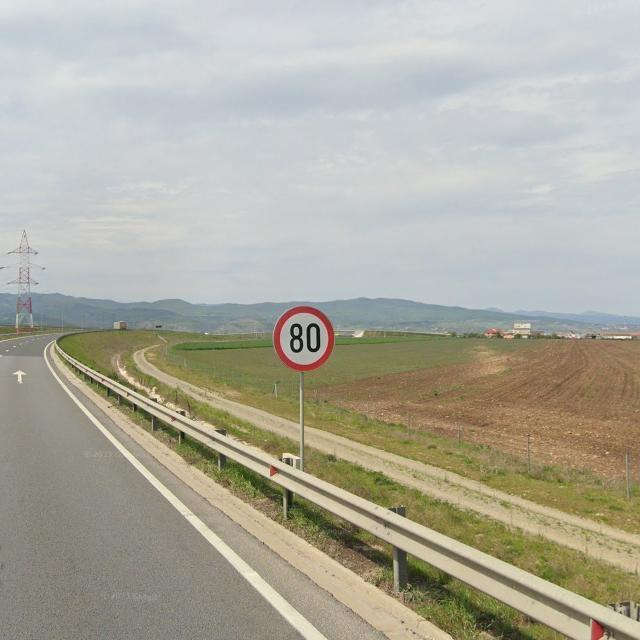forb_speed_over_80: (272, 304, 336, 373)
